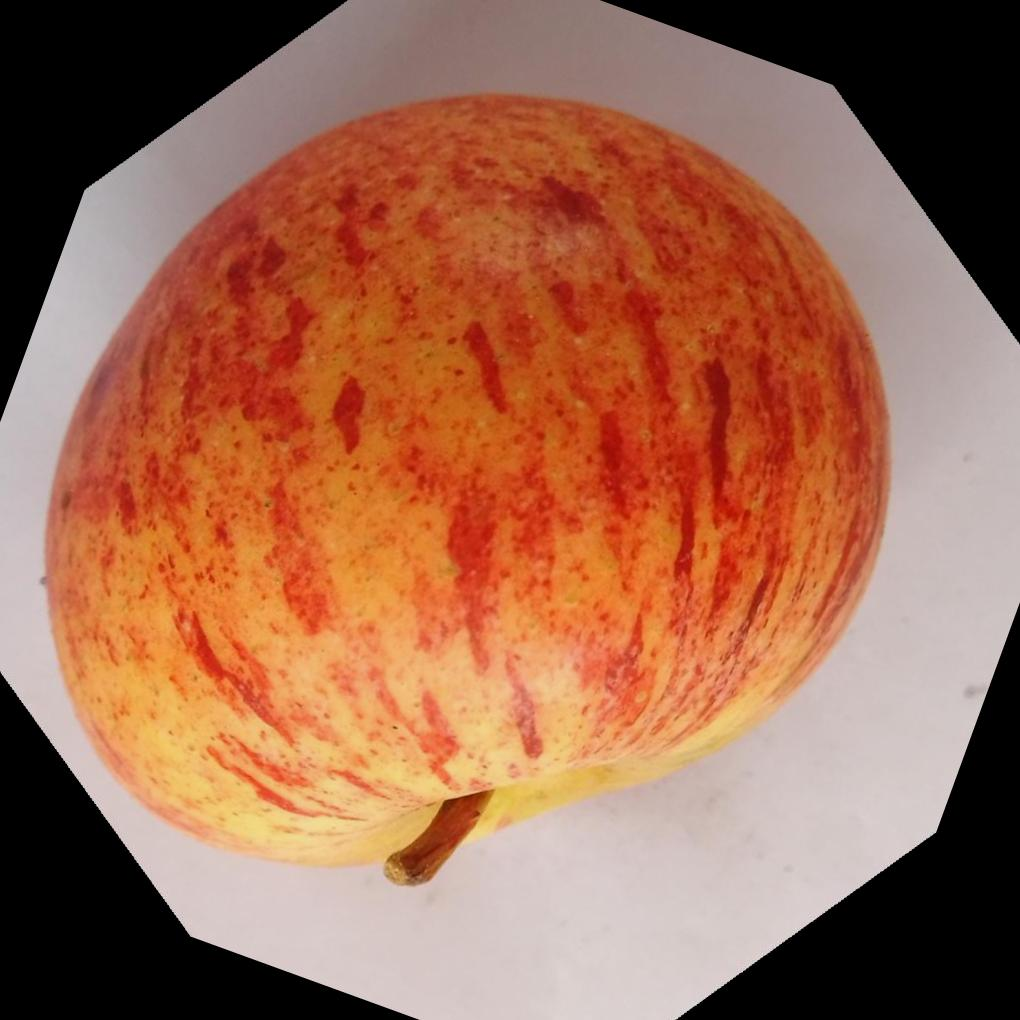FreshGuava: (39, 92, 891, 889)
